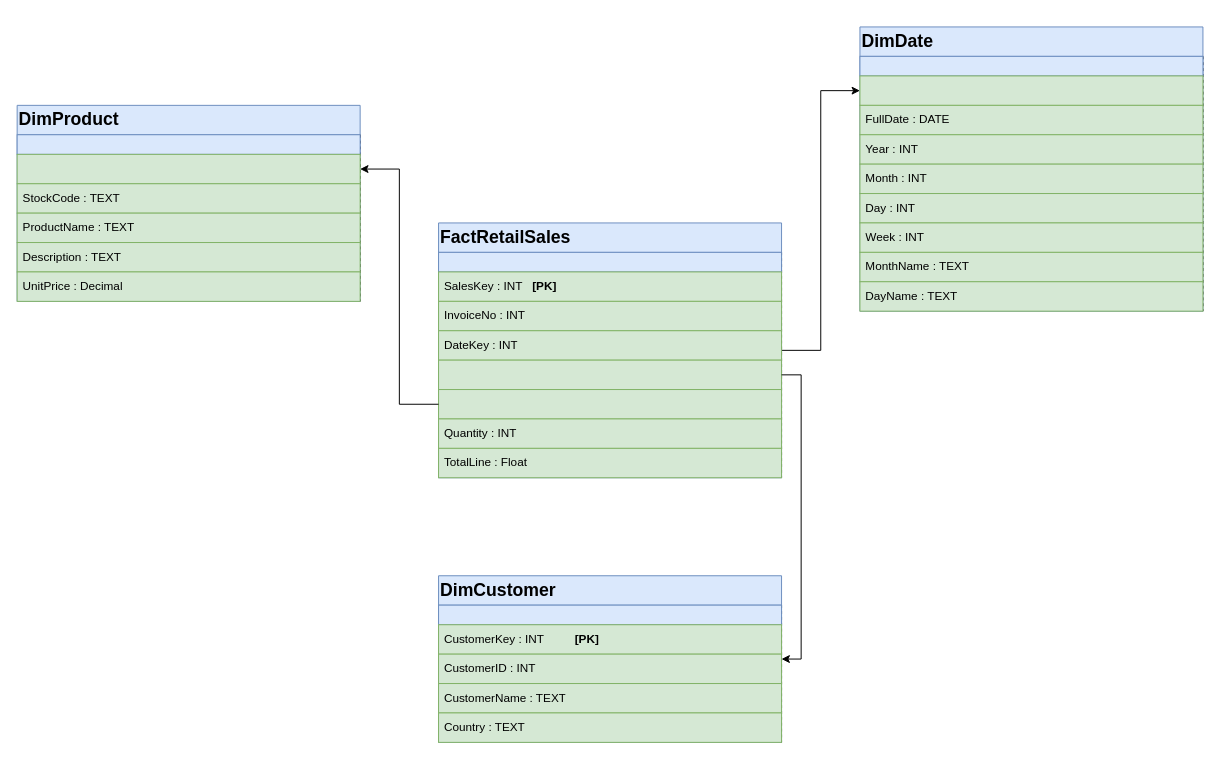
Some shapes in this 1220 by 760 pixel diagram are drawn without their labels. The shapes that lost their labels are listed below. From the top down, each one's centre as x and y in pixels, then its label:
At pixel 1031 65: "[Dates]".
At pixel 1031 90: "DateKey : INT [PK]".
At pixel 188 144: "[Products]".
At pixel 188 168: "ProductKey : INT [PK]".
At pixel 610 261: "[RetailSales]".
At pixel 610 374: "CustomerKey : INT".
At pixel 610 404: "ProductKey : INT".
At pixel 610 614: "[Customers]".
